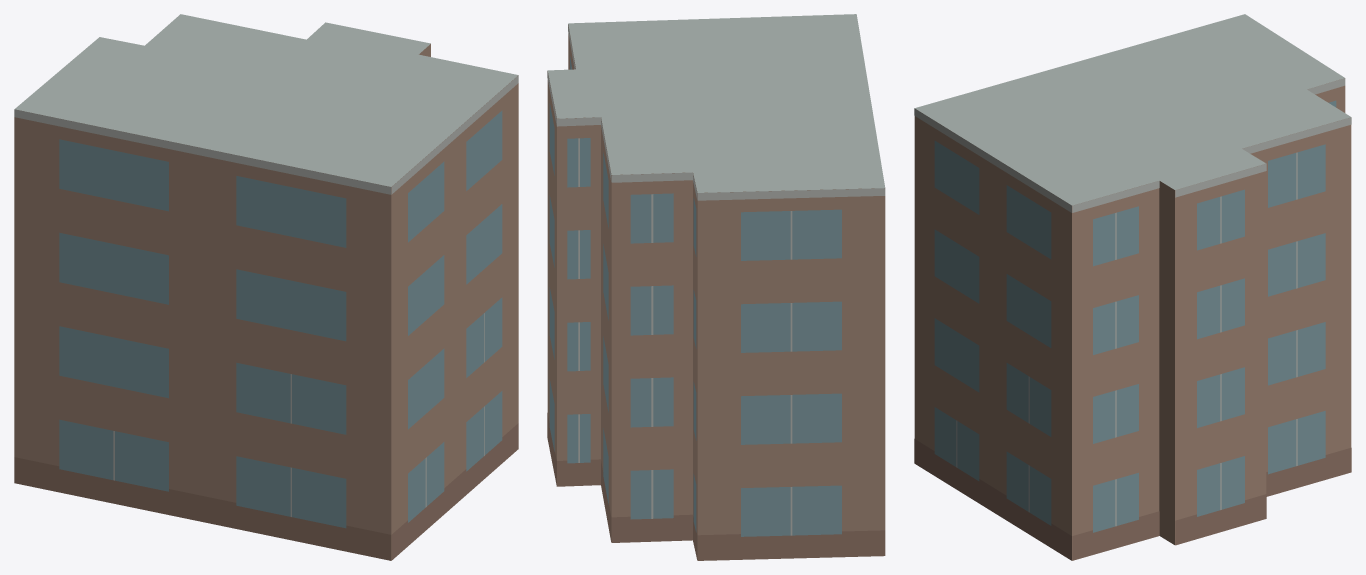
The model's file is survey-upis-32678619.glb.
3 renders of one model, left to right at view 1: azimuth 30°, elevation 25°; view 2: azimuth 150°, elevation 25°; view 3: azimuth 270°, elevation 25°, orthographic. The views are drawn at different scales.
Visible parts, largest first — view 1: survey-upis-32678619.tmp; view 2: survey-upis-32678619.tmp; view 3: survey-upis-32678619.tmp.
Boxes of the visible parts, x1,y1,x2,y2 form: survey-upis-32678619.tmp: [14, 14, 518, 560]; survey-upis-32678619.tmp: [547, 14, 885, 560]; survey-upis-32678619.tmp: [914, 14, 1351, 560].
Bounding box in the file's own units: 13.39 × 11.57 × 12.91.
